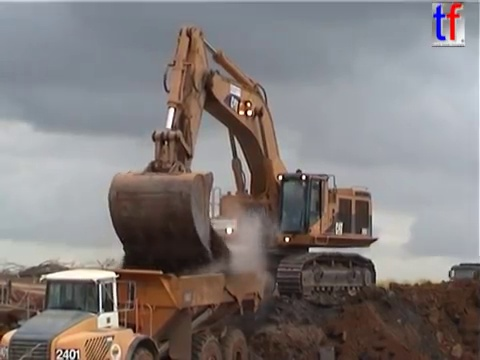excavator: (104, 23, 380, 308)
truck: (1, 264, 265, 360), (446, 261, 480, 301)
